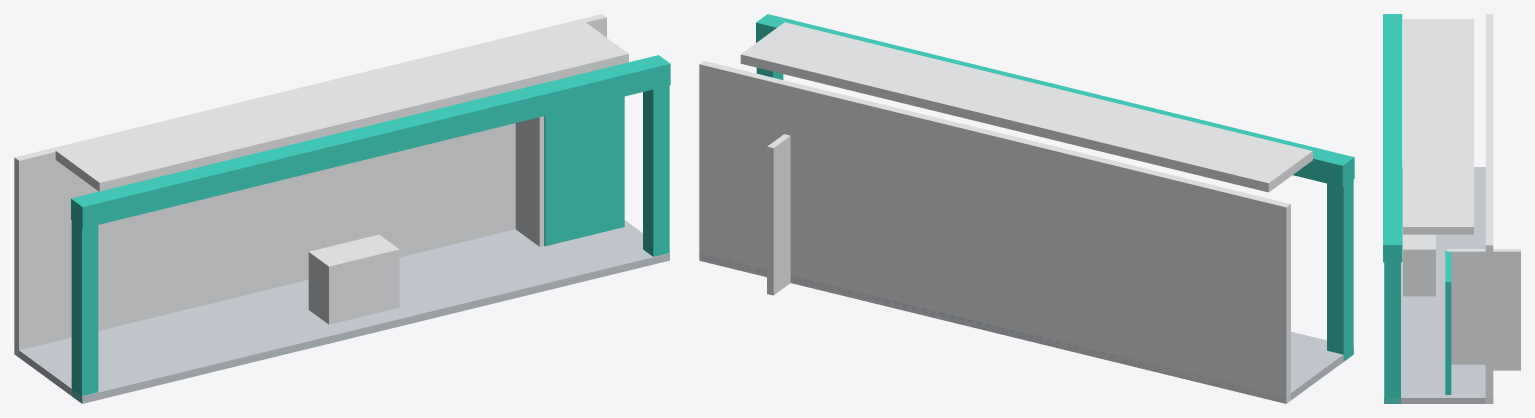
The picture shows the model from 3 angles, left to right: view 1: azimuth 30°, elevation 25°; view 2: azimuth 150°, elevation 25°; view 3: azimuth 270°, elevation 25°; orthographic projection. The views are drawn at different scales.
Visible parts, largest first — view 1: Exhibition Booth Concept; view 2: Exhibition Booth Concept; view 3: Exhibition Booth Concept.
Boxes of the visible parts, x1=… form: Exhibition Booth Concept: x1=14, y1=14, x2=670, y2=403; Exhibition Booth Concept: x1=699, y1=14, x2=1354, y2=403; Exhibition Booth Concept: x1=1383, y1=14, x2=1520, y2=403.
Bounding box in the file's own units: 10 × 3.34 × 2.52.
